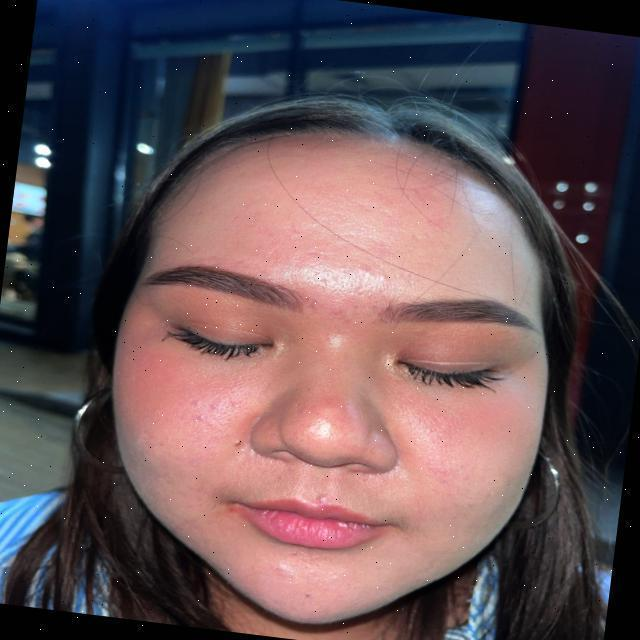acne: (271, 561, 292, 577), (328, 306, 347, 318), (225, 399, 245, 409), (192, 413, 208, 422), (207, 403, 220, 411)
nodules: (314, 494, 328, 505)
